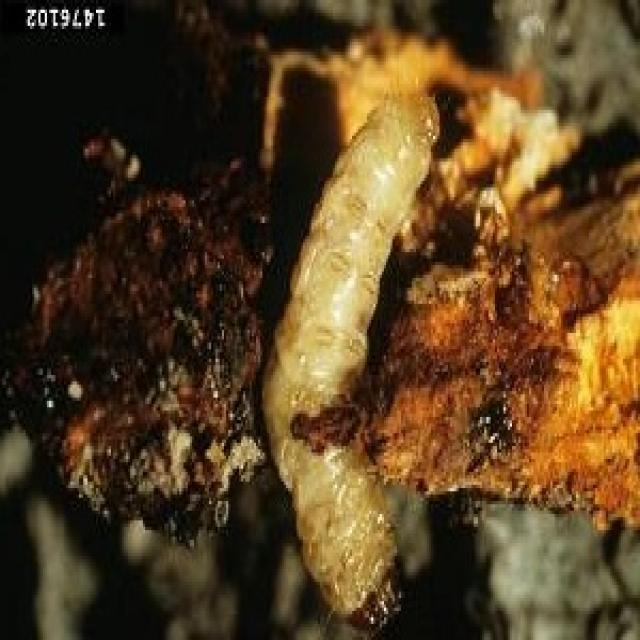peach borer: (271, 83, 439, 617)
